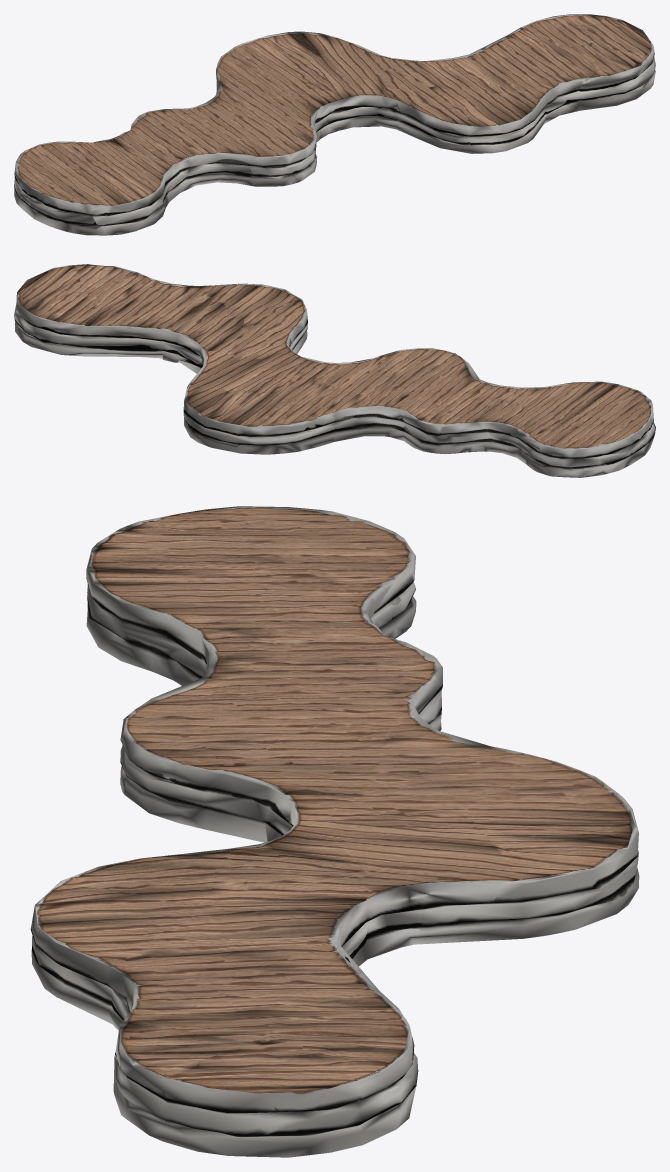
File: deckwave_lod1.glb
3 renders of one model, top to bottom at view 1: azimuth 30°, elevation 25°; view 2: azimuth 150°, elevation 25°; view 3: azimuth 270°, elevation 25°, orthographic. The views are drawn at different scales.
Visible parts, largest first — view 1: tripo_node_9ec09905-91dd-470f-8dda-bee24659368a; view 2: tripo_node_9ec09905-91dd-470f-8dda-bee24659368a; view 3: tripo_node_9ec09905-91dd-470f-8dda-bee24659368a.
Part boxes in pixels (x1,y1,x2,y2): tripo_node_9ec09905-91dd-470f-8dda-bee24659368a: [14, 14, 655, 235]; tripo_node_9ec09905-91dd-470f-8dda-bee24659368a: [14, 264, 655, 477]; tripo_node_9ec09905-91dd-470f-8dda-bee24659368a: [30, 506, 639, 1157].
Size of the model in its own units: 9.23 by 0.4921 by 3.96.
1 material, 1 textured.
